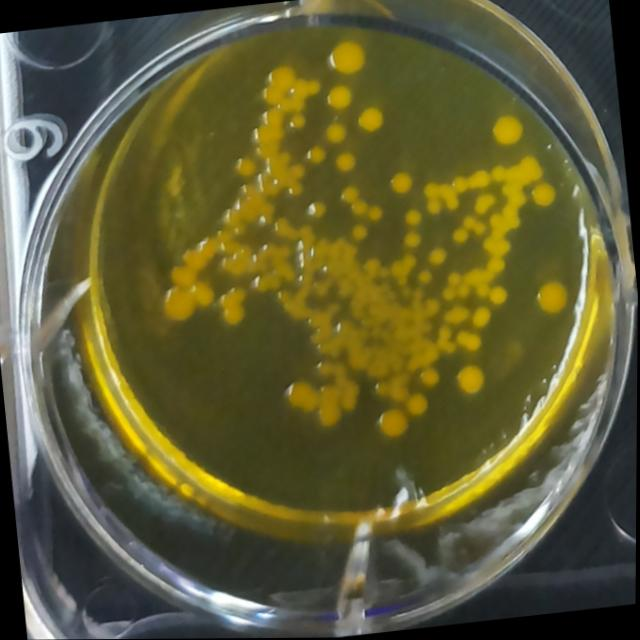vibrio: (528, 276, 577, 320), (323, 34, 370, 78), (158, 279, 202, 325), (486, 107, 530, 150), (374, 403, 416, 443), (450, 359, 490, 399), (284, 379, 321, 414), (322, 80, 357, 112), (526, 178, 560, 210), (355, 103, 389, 135), (266, 63, 299, 93), (387, 165, 417, 195), (416, 360, 445, 390), (404, 389, 432, 417), (454, 328, 485, 353), (332, 148, 361, 173), (323, 119, 350, 145), (234, 150, 260, 177), (219, 303, 247, 328), (468, 303, 494, 329), (424, 242, 451, 267), (305, 142, 329, 167), (487, 282, 511, 306), (402, 204, 425, 229), (303, 197, 329, 219), (401, 227, 425, 249), (340, 182, 362, 205), (350, 221, 372, 243), (349, 196, 371, 218), (450, 224, 472, 244), (366, 201, 386, 221), (424, 197, 444, 217), (287, 111, 307, 130), (415, 267, 435, 286)
